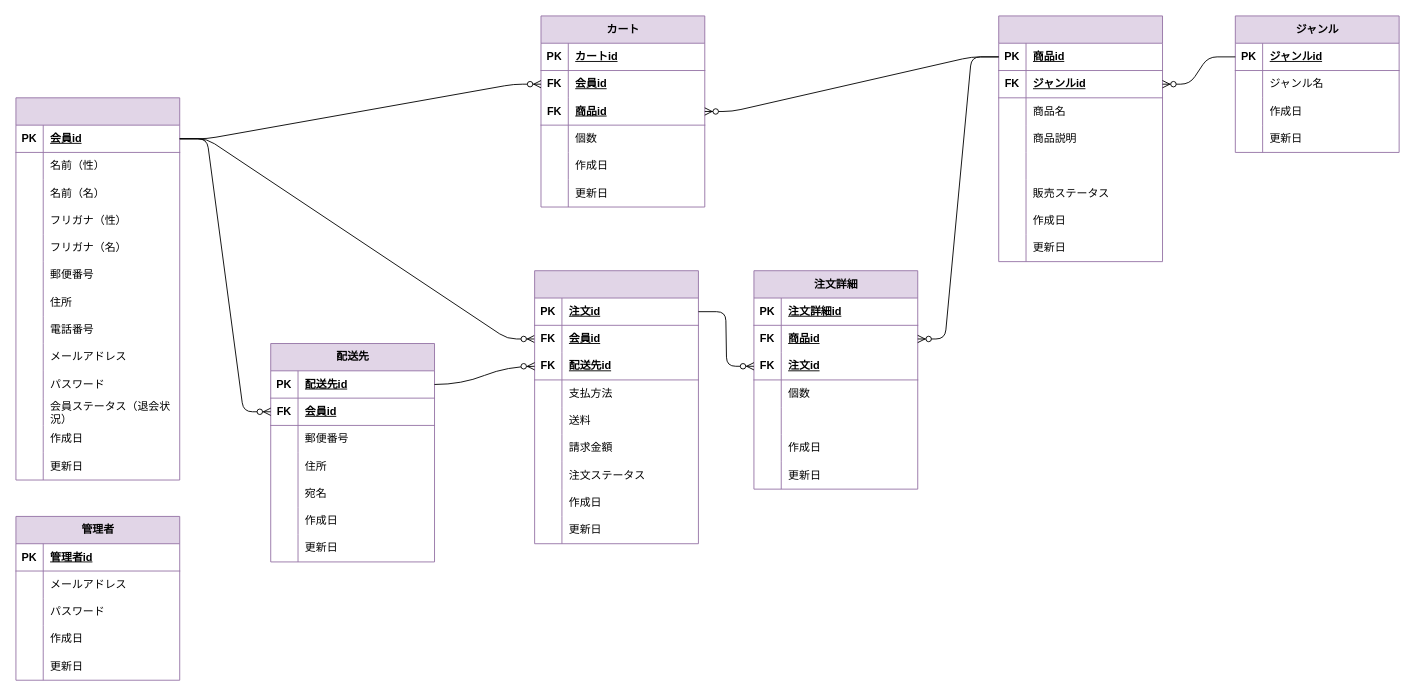
The diagram is 1415 pixels wide and 696 high, and some of its shapes have lost their labels. Here are the shapes that lost their labels. From the top down, the box of each, then its label:
(998, 15, 1163, 262): 商品
(15, 97, 180, 480): 会員
(534, 270, 698, 544): 注文
